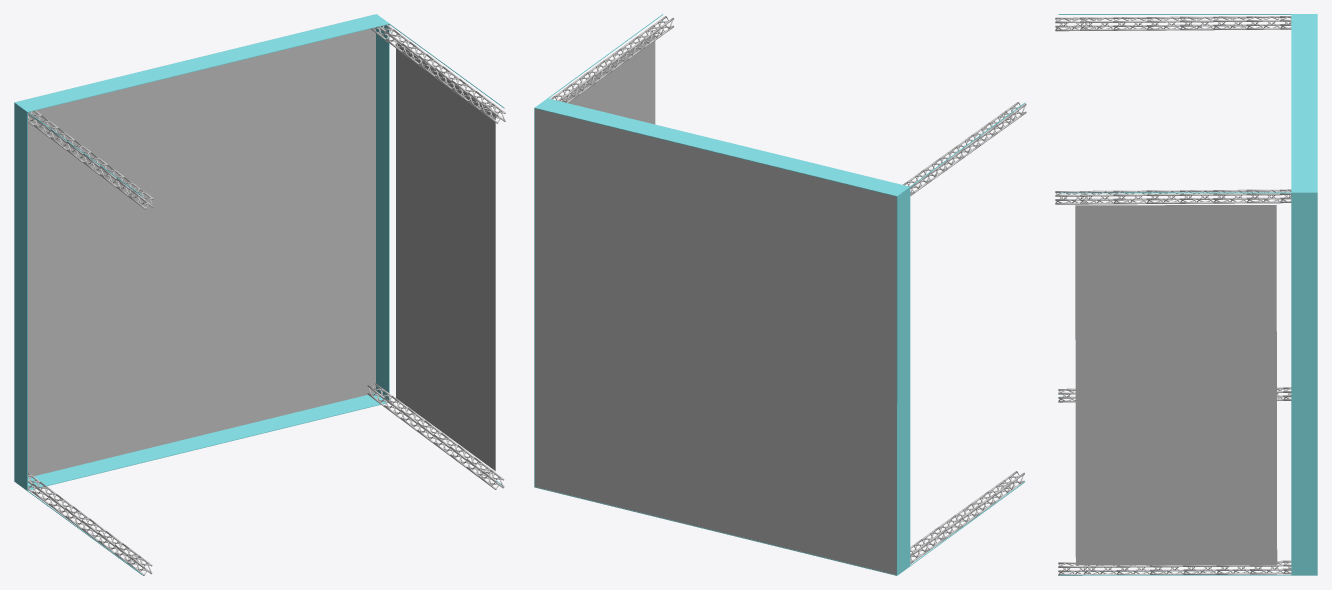
Rendered from Arena.obj.
The picture shows the model from 3 angles, left to right: view 1: azimuth 30°, elevation 25°; view 2: azimuth 150°, elevation 25°; view 3: azimuth 270°, elevation 25°; orthographic projection.
Parts seen in each view (by area): view 1: Plane, Banner_Plane, arena_frame_Body1.001, Steel_Truss_(Tileable).001_Steel_Truss_(Tileable).008, Steel_Truss_(Tileable).002_Steel_Truss_(Tileable).009, Steel_Truss_(Tileable).011, Steel_Truss_(Tileable).003_Steel_Truss_(Tileable).010; view 2: Plane, arena_frame_Body1.001, Banner_Plane, Steel_Truss_(Tileable).003_Steel_Truss_(Tileable).010, Steel_Truss_(Tileable).002_Steel_Truss_(Tileable).009, Steel_Truss_(Tileable).011; view 3: Banner_Plane, arena_frame_Body1.001, Steel_Truss_(Tileable).002_Steel_Truss_(Tileable).009, Steel_Truss_(Tileable).003_Steel_Truss_(Tileable).010, Steel_Truss_(Tileable).001_Steel_Truss_(Tileable).008, Steel_Truss_(Tileable).011.
Part boxes in pixels (x1,y1,x2,y2): Plane: (28, 28, 375, 477); Banner_Plane: (396, 43, 495, 470); arena_frame_Body1.001: (14, 14, 504, 575); Steel_Truss_(Tileable).001_Steel_Truss_(Tileable).008: (367, 383, 504, 489); Steel_Truss_(Tileable).002_Steel_Truss_(Tileable).009: (370, 24, 505, 123); Steel_Truss_(Tileable).011: (28, 472, 152, 575); Steel_Truss_(Tileable).003_Steel_Truss_(Tileable).010: (28, 110, 153, 209); Plane: (535, 108, 896, 574); arena_frame_Body1.001: (534, 14, 1025, 575); Banner_Plane: (564, 34, 655, 124); Steel_Truss_(Tileable).003_Steel_Truss_(Tileable).010: (902, 102, 1026, 195); Steel_Truss_(Tileable).002_Steel_Truss_(Tileable).009: (550, 16, 674, 102); Steel_Truss_(Tileable).011: (910, 471, 1024, 563); Banner_Plane: (1075, 205, 1277, 565); arena_frame_Body1.001: (1058, 14, 1317, 575); Steel_Truss_(Tileable).002_Steel_Truss_(Tileable).009: (1055, 189, 1291, 204); Steel_Truss_(Tileable).003_Steel_Truss_(Tileable).010: (1055, 16, 1291, 31); Steel_Truss_(Tileable).001_Steel_Truss_(Tileable).008: (1058, 560, 1291, 575); Steel_Truss_(Tileable).011: (1058, 387, 1291, 402).
Size of the model in its own units: 8 by 8.02 by 4.97.
